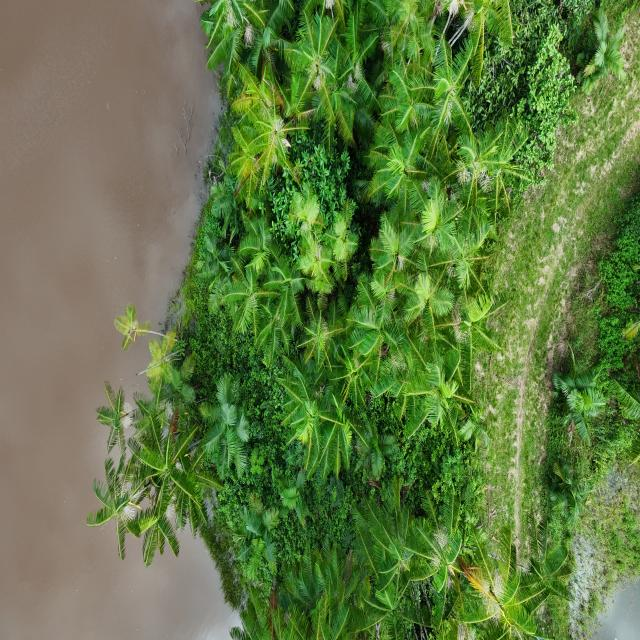vegetation: (86, 1, 636, 638)
